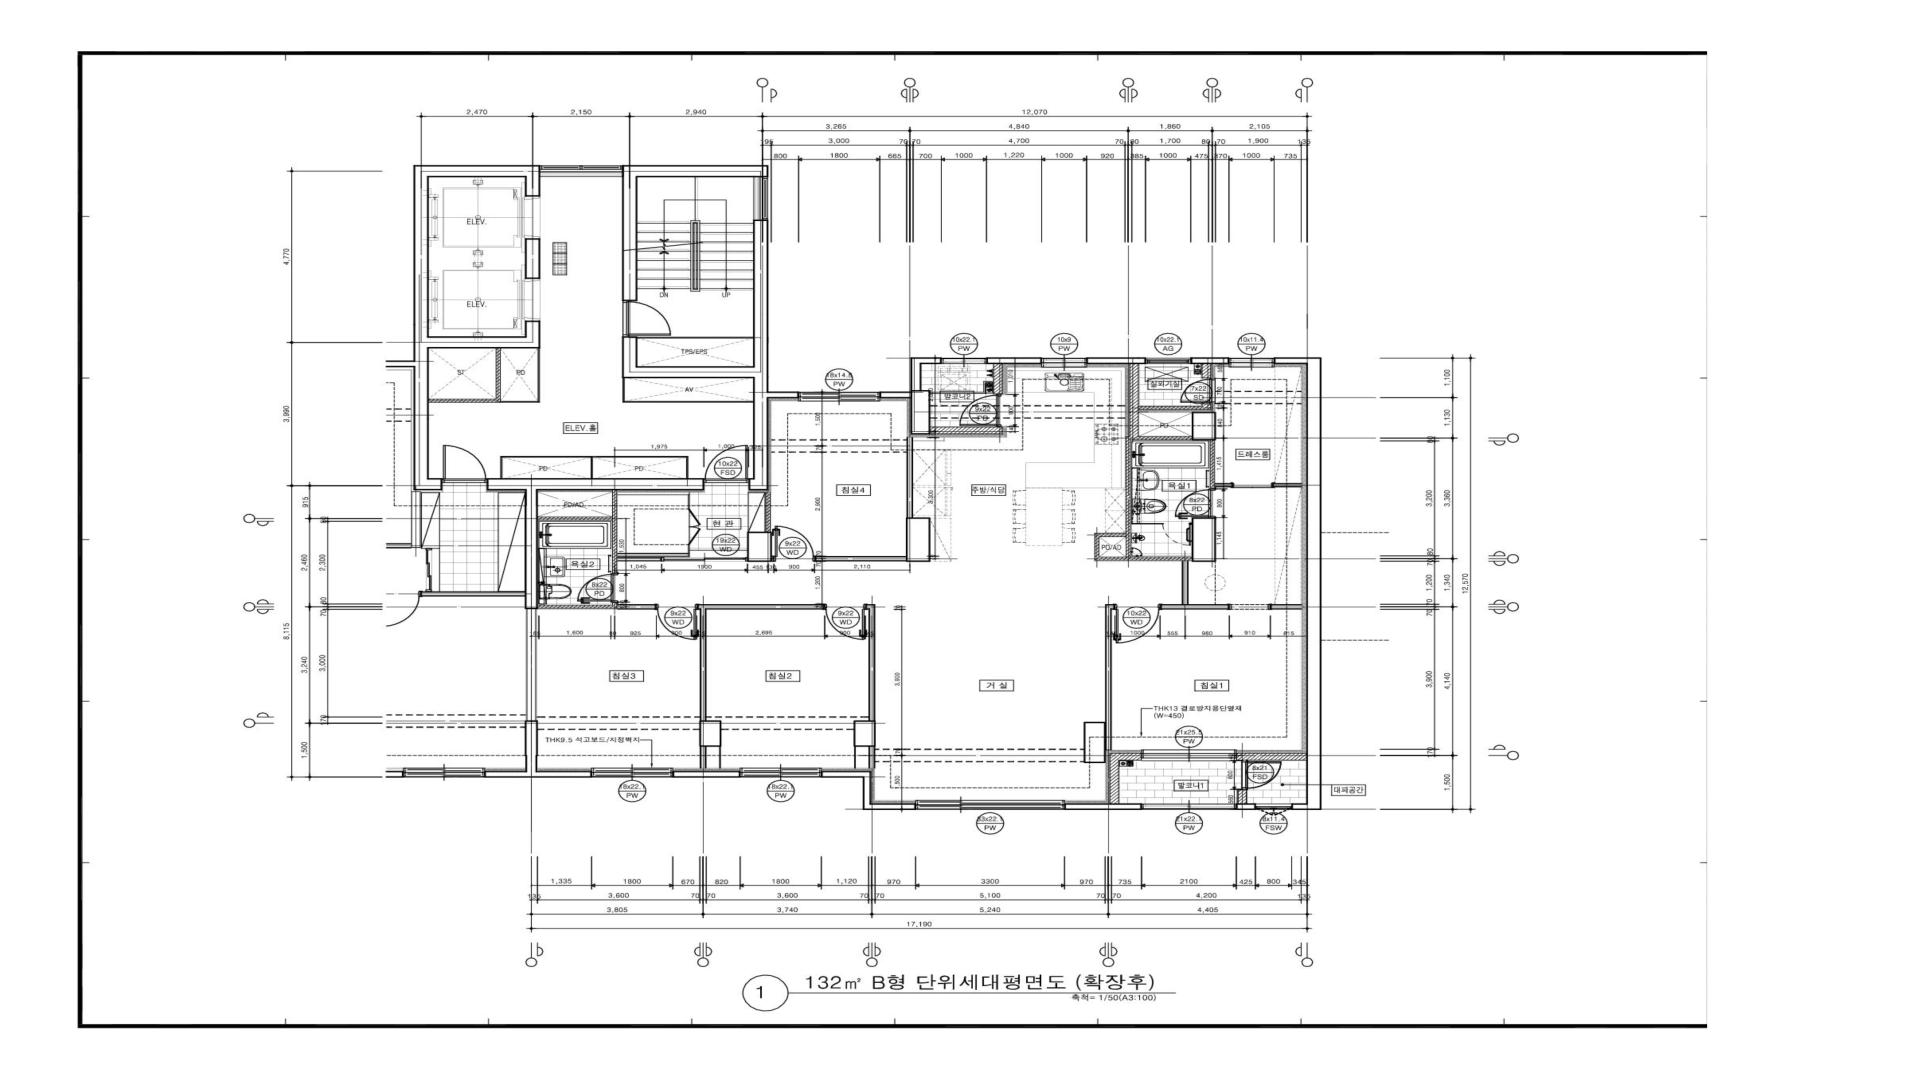door: (1114, 604, 1162, 645), (621, 301, 671, 336), (704, 444, 749, 483), (771, 525, 815, 562), (655, 604, 698, 641), (823, 604, 866, 640), (960, 393, 1004, 427), (1241, 761, 1283, 790), (1174, 489, 1216, 517), (578, 574, 617, 603), (1179, 378, 1215, 404), (662, 556, 748, 562)
wall: (484, 479, 704, 778), (621, 220, 799, 491), (413, 165, 541, 491), (1095, 364, 1238, 609), (1274, 357, 1323, 810), (698, 604, 823, 769), (621, 165, 769, 301), (815, 436, 931, 562), (538, 491, 662, 574), (1083, 604, 1114, 764), (880, 357, 942, 435), (429, 348, 501, 404), (822, 770, 916, 810), (853, 604, 876, 769), (748, 492, 771, 562), (1109, 753, 1142, 803), (538, 603, 655, 609), (525, 239, 541, 280), (930, 427, 1004, 435), (1237, 753, 1307, 761), (673, 770, 740, 778), (1064, 803, 1142, 810), (1087, 357, 1146, 364), (986, 357, 1042, 364), (993, 364, 1002, 394), (1189, 357, 1229, 364), (1270, 604, 1303, 609), (1237, 790, 1247, 803), (1236, 803, 1257, 810), (1201, 364, 1211, 378), (1279, 483, 1303, 487)
window: (916, 800, 1064, 810), (1141, 749, 1237, 761), (541, 165, 621, 177), (740, 767, 822, 778), (799, 390, 880, 401), (592, 767, 673, 778), (753, 178, 769, 220), (1142, 803, 1236, 810), (1229, 356, 1274, 368), (1042, 357, 1087, 368), (1255, 803, 1291, 816), (942, 357, 986, 364), (1146, 357, 1191, 364)
